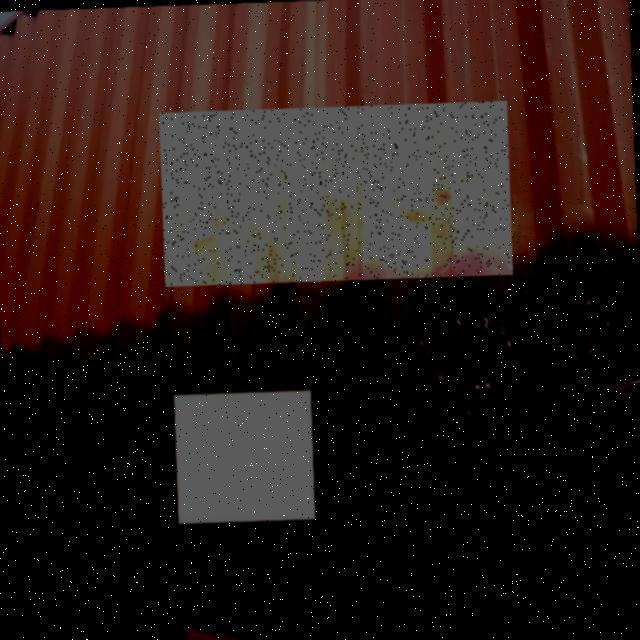Minor-Dent: (159, 101, 513, 287)
